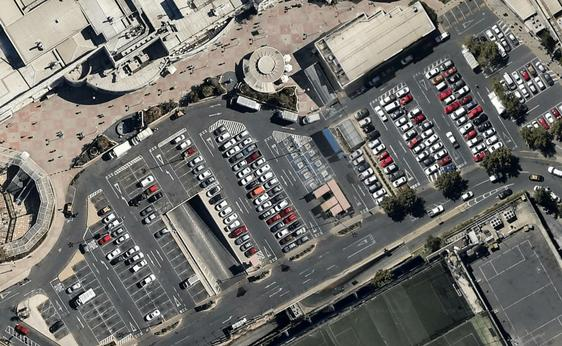parkingspot: (114, 167, 211, 306), (209, 124, 301, 256), (89, 191, 180, 323), (232, 128, 315, 247), (87, 219, 166, 331), (437, 56, 507, 156), (422, 66, 493, 163), (378, 93, 442, 178), (392, 84, 455, 170), (70, 258, 132, 344), (353, 108, 412, 197), (205, 183, 262, 260), (60, 274, 113, 344), (277, 135, 324, 196), (158, 139, 205, 199), (128, 158, 175, 217), (346, 149, 392, 208), (173, 130, 218, 190), (496, 56, 547, 96), (436, 0, 489, 34), (299, 140, 338, 186), (34, 298, 72, 344), (511, 70, 556, 107), (525, 102, 562, 138), (492, 30, 522, 60), (482, 21, 507, 45)
